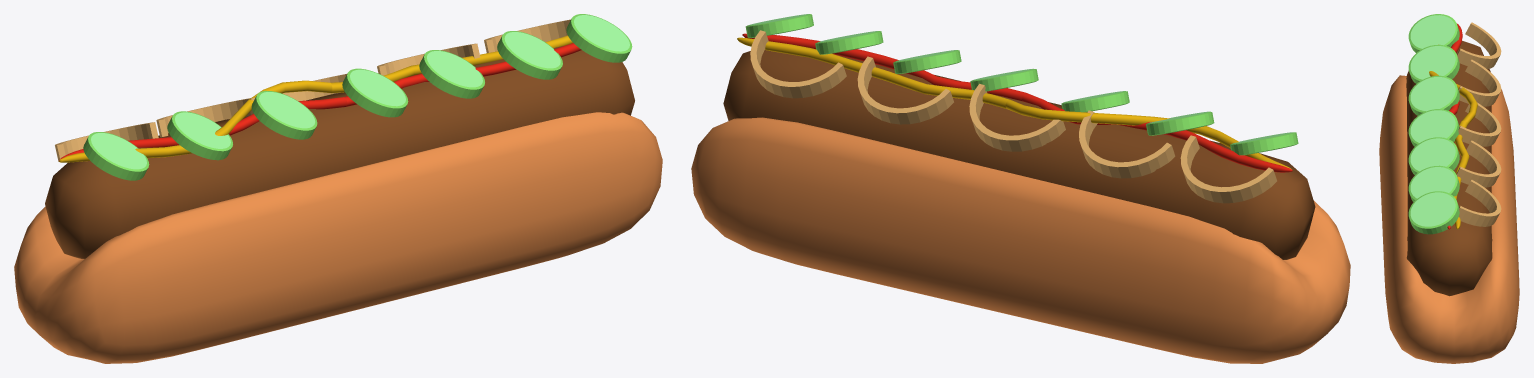
The model's file is Hot_dog_with_Pickles_ketchup_mustard_and_onion.fbx.
The picture shows the model from 3 angles, left to right: view 1: azimuth 30°, elevation 25°; view 2: azimuth 150°, elevation 25°; view 3: azimuth 270°, elevation 25°; orthographic projection. The views are drawn at different scales.
Visible parts, largest first — view 1: Single Bun, Single Hot Dog, Pickles.008, Onions.002, Mustard Stripe, Ketchup Stripe; view 2: Single Bun, Single Hot Dog, Onions.002, Pickles.008, Mustard Stripe, Ketchup Stripe; view 3: Single Bun, Pickles.008, Single Hot Dog, Onions.002, Mustard Stripe, Ketchup Stripe.
Boxes of the visible parts, x1,y1,x2,y2 form: Single Bun: (14, 112, 662, 363); Single Hot Dog: (45, 46, 634, 258); Pickles.008: (83, 14, 632, 180); Onions.002: (55, 19, 570, 161); Mustard Stripe: (59, 35, 572, 162); Ketchup Stripe: (59, 43, 581, 160); Single Bun: (691, 117, 1350, 363); Single Hot Dog: (723, 50, 1315, 259); Onions.002: (750, 30, 1276, 203); Pickles.008: (745, 14, 1298, 155); Mustard Stripe: (737, 37, 1291, 169); Ketchup Stripe: (742, 33, 1292, 172); Single Bun: (1379, 75, 1519, 363); Pickles.008: (1408, 14, 1459, 234); Single Hot Dog: (1406, 40, 1492, 296); Onions.002: (1456, 22, 1501, 226); Mustard Stripe: (1429, 44, 1477, 229); Ketchup Stripe: (1447, 23, 1462, 229).
Size of the model in its own units: 3.17 by 1.08 by 0.8336.
